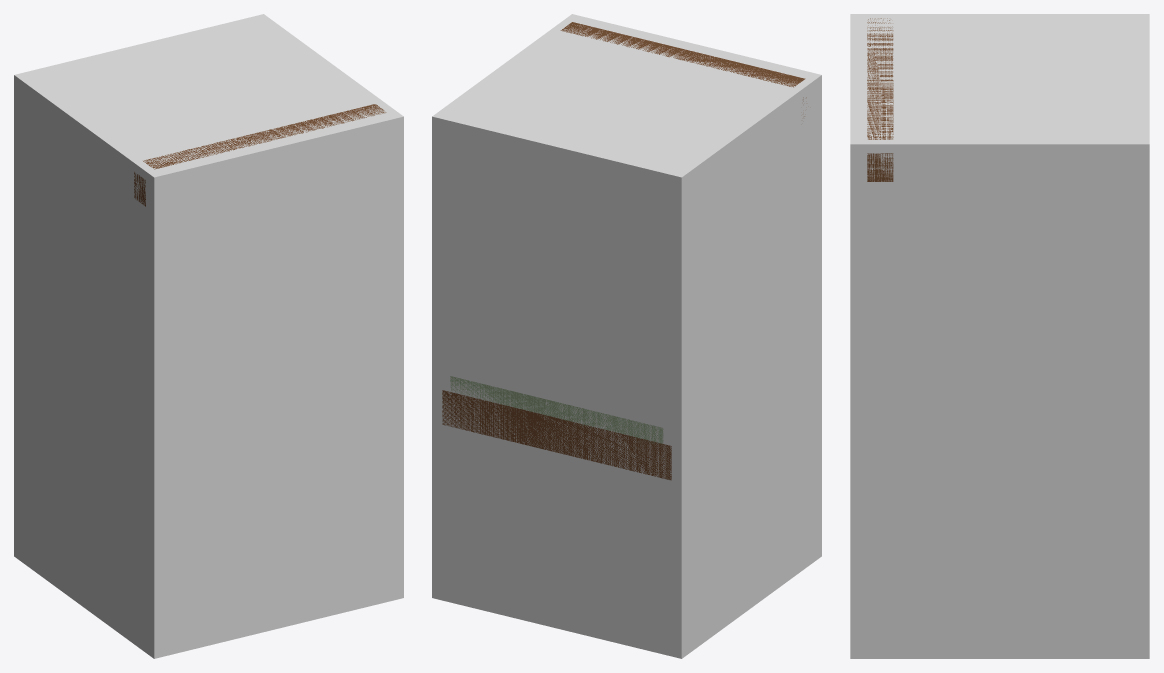
File: dining_chair.glb
3 views of the same model, side by side, from view 1: azimuth 30°, elevation 25°; view 2: azimuth 150°, elevation 25°; view 3: azimuth 270°, elevation 25° (orthographic). The views are drawn at different scales.
Parts seen in each view (by area): view 1: dining_chair_001_seat_frame_COL, dining_chair_012_back_crest; view 2: dining_chair_001_seat_frame_COL, dining_chair_001_seat_frame, dining_chair_002_seat_cushion, dining_chair_012_back_crest; view 3: dining_chair_001_seat_frame_COL, dining_chair_012_back_crest.
Boxes of the visible parts, box(x1,y1,x2,y2) form: dining_chair_001_seat_frame_COL: box(14, 14, 403, 658); dining_chair_012_back_crest: box(134, 104, 386, 206); dining_chair_001_seat_frame_COL: box(432, 14, 821, 658); dining_chair_001_seat_frame: box(442, 390, 671, 480); dining_chair_002_seat_cushion: box(450, 376, 663, 444); dining_chair_012_back_crest: box(560, 22, 806, 116); dining_chair_001_seat_frame_COL: box(850, 14, 1149, 658); dining_chair_012_back_crest: box(867, 18, 893, 181).
Bounding box in the file's own units: 0.535 × 0.9854 × 0.5199.
